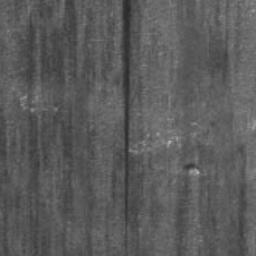Scratches: (121, 0, 134, 234)
